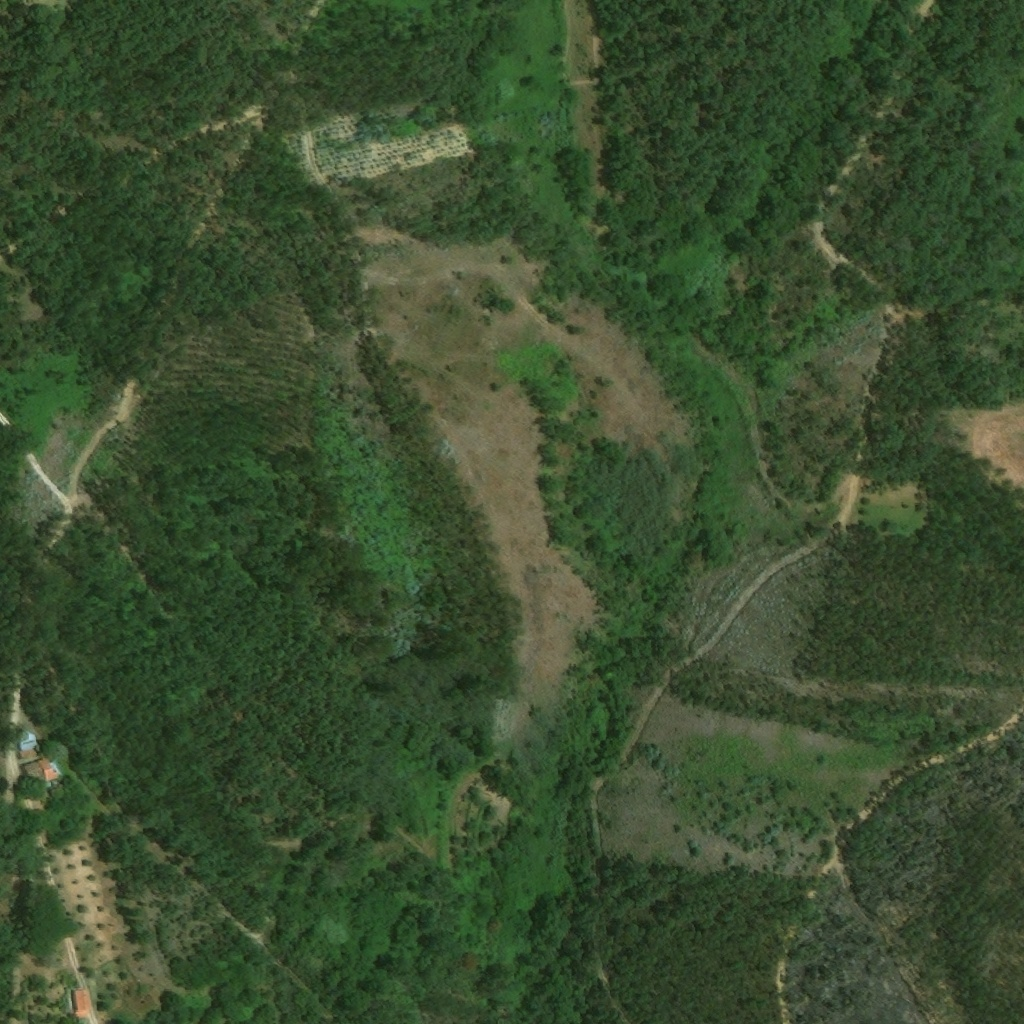0 no-damage: (24, 758, 61, 788), (69, 987, 92, 1019), (17, 730, 40, 759)
